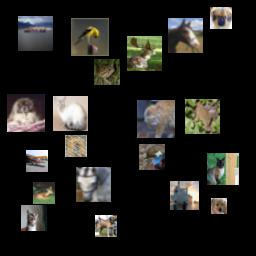airplane: (26, 150, 48, 172)
bird: (71, 18, 109, 56), (139, 144, 165, 170)
cat: (137, 100, 175, 138), (53, 96, 88, 131), (207, 153, 239, 185), (21, 205, 47, 231)
deer: (127, 36, 162, 71), (33, 182, 55, 204)
dog: (7, 94, 45, 132), (65, 135, 87, 157), (95, 215, 117, 237), (210, 7, 232, 29), (211, 198, 227, 214)
frog: (185, 99, 220, 134), (94, 59, 120, 85)
ship: (18, 16, 53, 51), (170, 181, 199, 210)
